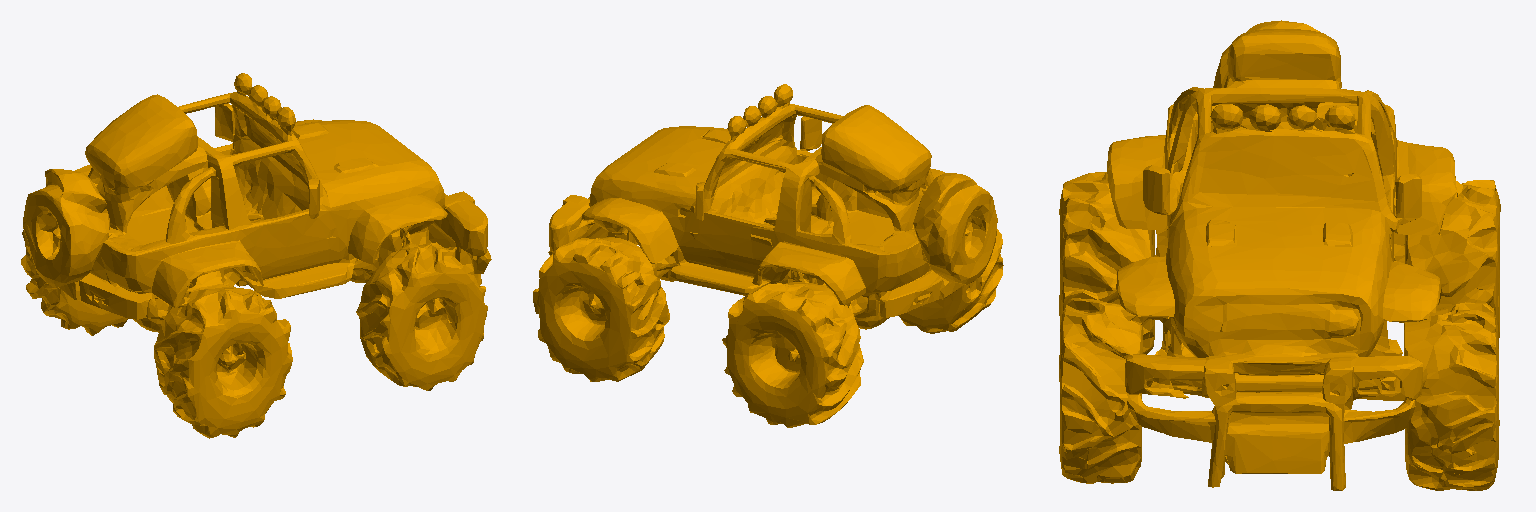
The robot description file, URDF, robot "sample":
<?xml version="1.0" ?>
<robot name="sample">
   <link name="sample">
      <visual>
         <origin xyz="0 0 0" rpy="1.5708 0.0 0.0"/>
         <geometry>
            <mesh filename="mesh/sample.obj" scale="1.0 1.0 1.0"/>
         </geometry>
      </visual>
      <collision>
         <origin xyz="0 0 0" rpy="1.5708 0.0 0.0"/>
         <geometry>
            <mesh filename="mesh/sample_collision.obj" scale="1.0 1.0 1.0"/>
         </geometry>
         <gazebo>
            <mu1>0.70</mu1>
            <mu2>0.60</mu2>
         </gazebo>
      </collision>
      <inertial>
         <mass value="2.0000"/>
         <origin xyz="0 0 0"/>
         <inertia ixx="1.0" ixy="0.0" ixz="0.0" iyy="1.0" iyz="0.0" izz="1.0"/>
      </inertial>
      <extra_info>
         <scale>0.566914</scale>
         <version>v0.1.7</version>
         <category>toy</category>
         <description>red and black monster truck toy with large wheels</description>
         <min_height>0.3</min_height>
         <max_height>0.4</max_height>
         <real_height>0.35</real_height>
         <min_mass>1.5</min_mass>
         <max_mass>2.5</max_mass>
         <color>red</color>
         <rgba>[1.0, 0.0, 0.0, 1.0]</rgba>
         <generate_time>20260525135534</generate_time>
         <gs_model>mesh/sample_gs.ply</gs_model>
      </extra_info>
   </link>
   <custom_data>
      <quality>
         <MeshGeoChecker>YES</MeshGeoChecker>
         <ImageSegChecker>NO, object has jagged edges and incomplete background removal, especially at the bottom and sides.</ImageSegChecker>
         <ImageAestheticChecker>4.177314043045044</ImageAestheticChecker>
         <overall>NO</overall>
      </quality>
   </custom_data>
</robot>

--- Render facts (derived) ---
3 views of the same robot in one strip: view 1: azimuth 30°, elevation 25°; view 2: azimuth 150°, elevation 25°; view 3: azimuth 270°, elevation 25° (orthographic).
Robot: sample — 1 links, 0 joints (none); root link sample; default pose: every joint at zero.
Visible links, largest first — view 1: sample; view 2: sample; view 3: sample.
Link boxes in pixels (x1=…): sample: x1=21, y1=73, x2=491, y2=438; sample: x1=533, y1=84, x2=1003, y2=427; sample: x1=1059, y1=20, x2=1500, y2=490.
Bounding box of the posed robot: 0.5669 × 0.4204 × 0.35 m (x, y, z).
1 mesh visuals loaded from 1 distinct referenced files (1 OBJ).
